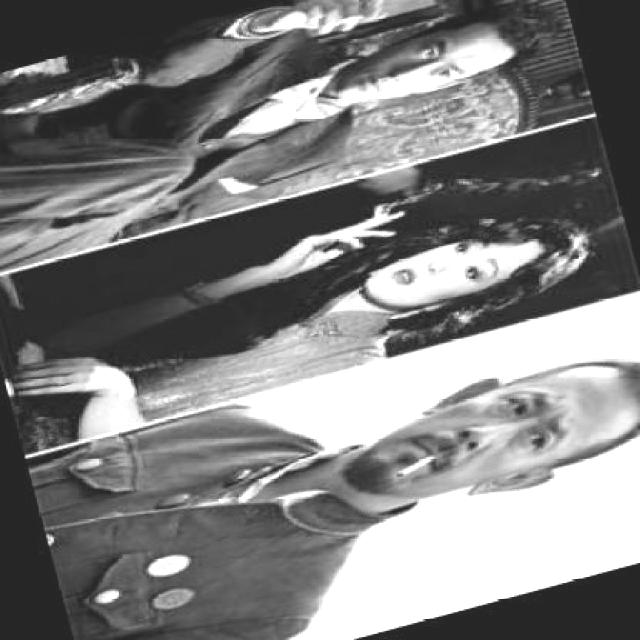smoke: (388, 452, 446, 486), (330, 12, 372, 32), (368, 203, 394, 226)
